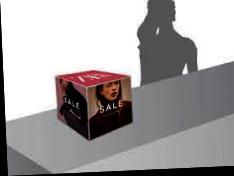cube: (56, 70, 133, 143)
